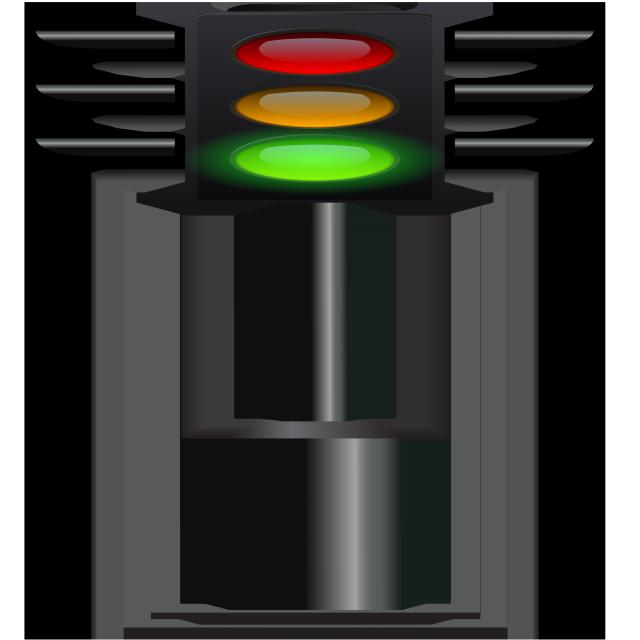green: (220, 132, 425, 187)
